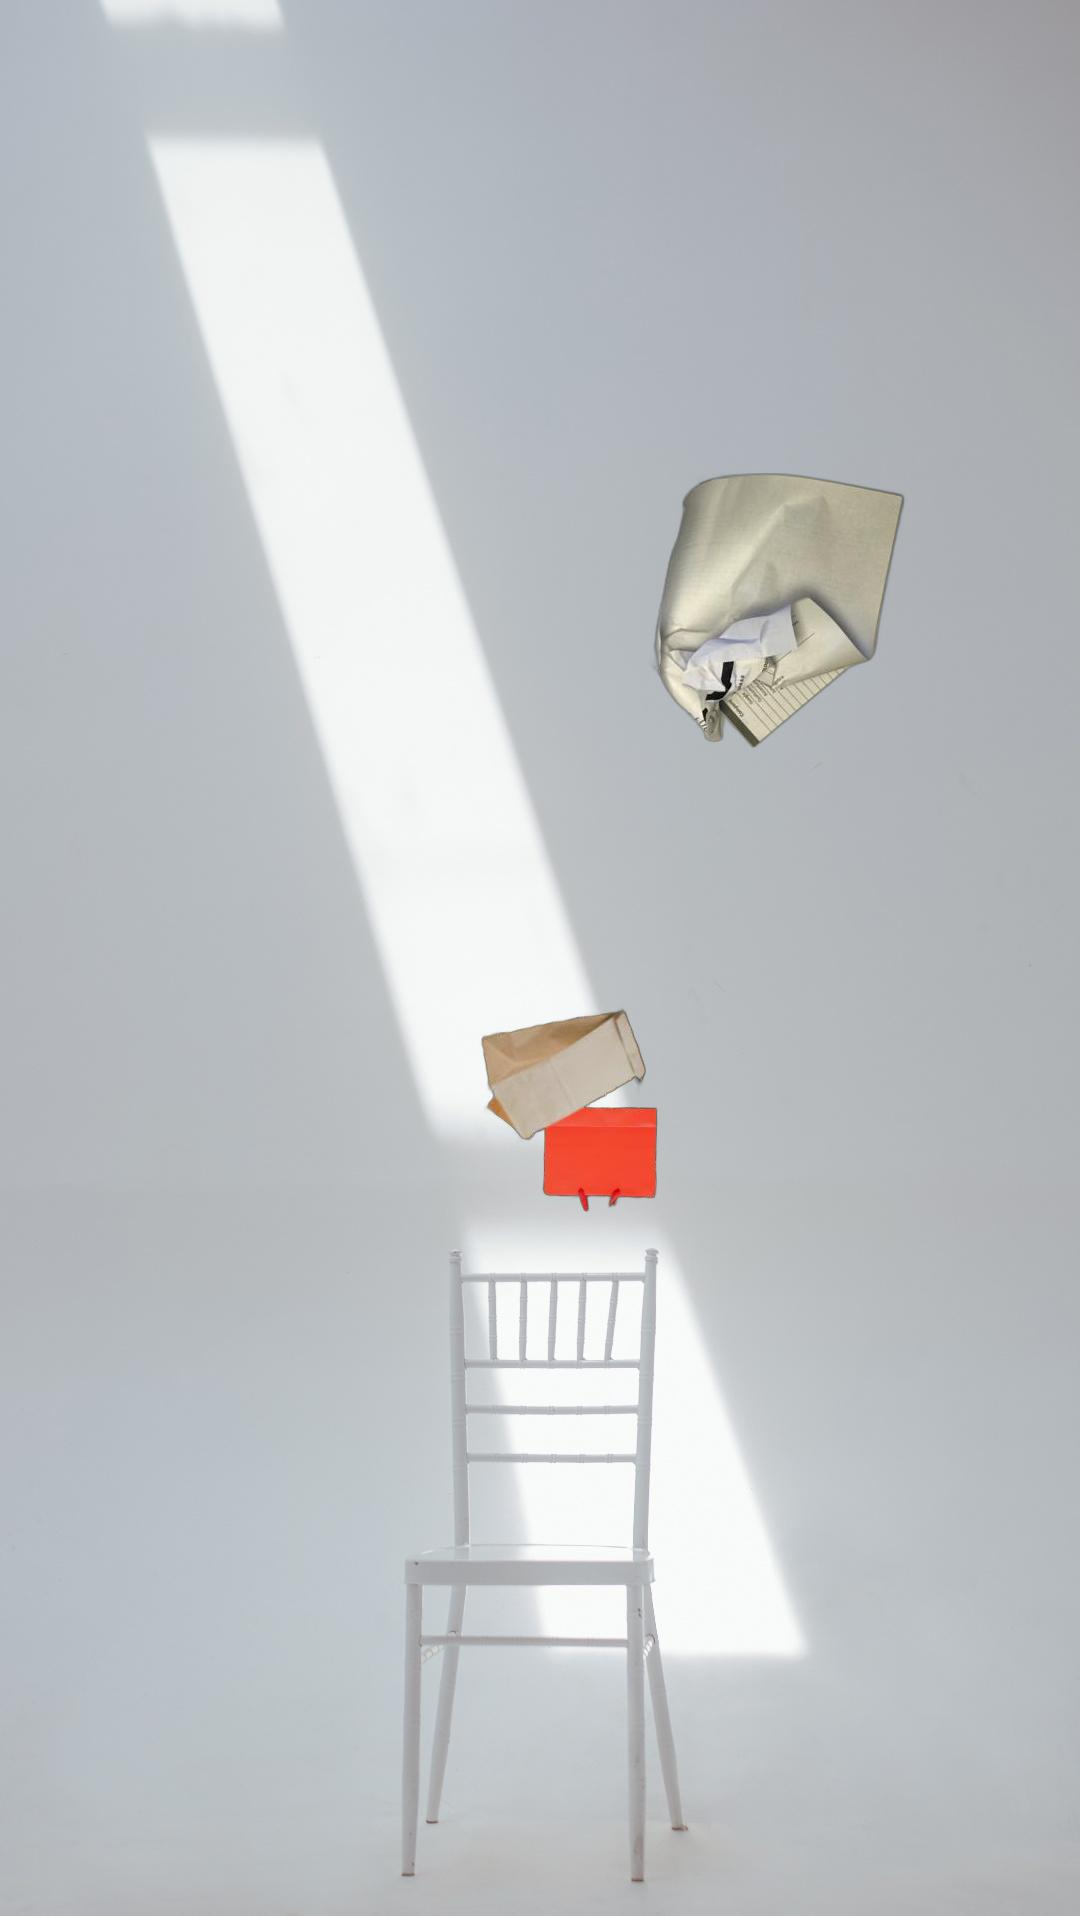paper: (646, 463, 909, 751)
paper-bag: (470, 1006, 660, 1213)
